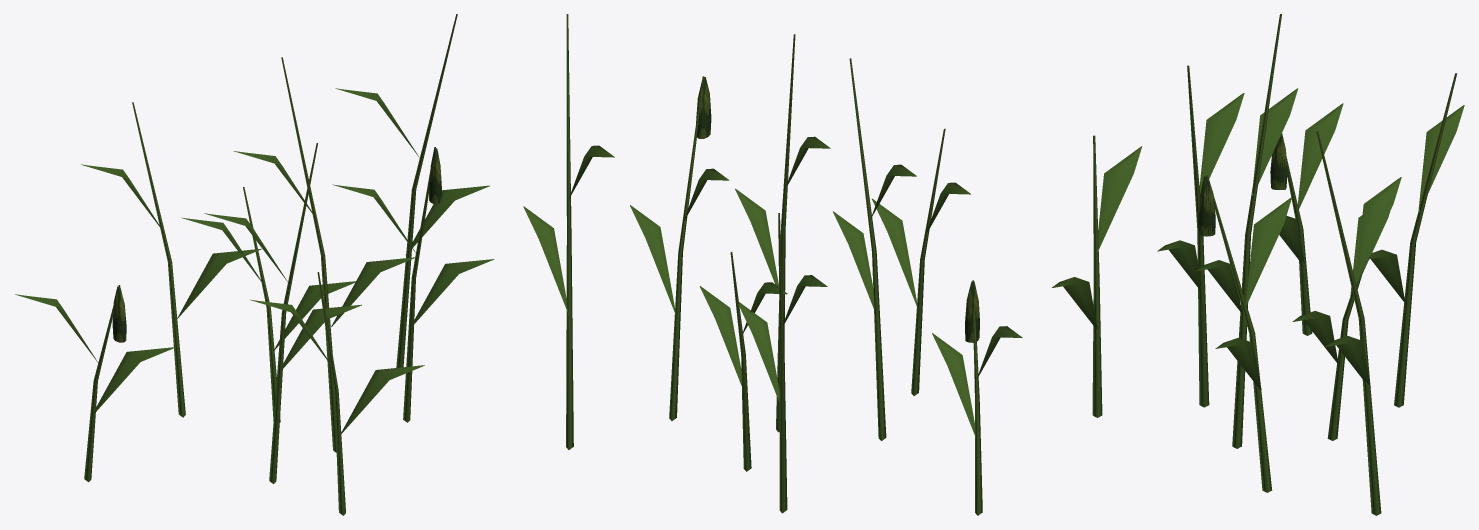
File: shore-reeds-lod1.glb
3 views of the same model, side by side, from view 1: azimuth 30°, elevation 25°; view 2: azimuth 150°, elevation 25°; view 3: azimuth 270°, elevation 25° (orthographic). The views are drawn at different scales.
Size of the model in its own units: 0.1528 by 0.1211 by 0.1093.
Materials: 1 (1 with a texture image).
